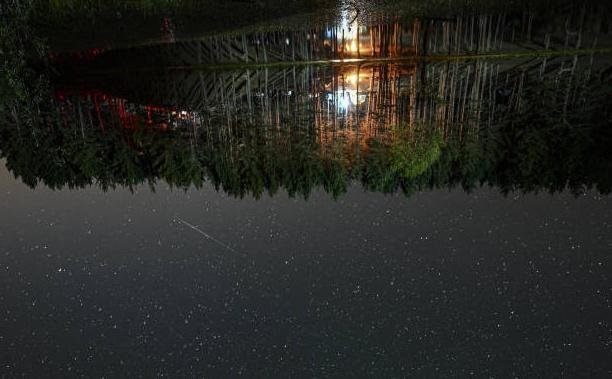meteorite: (165, 217, 240, 249)
